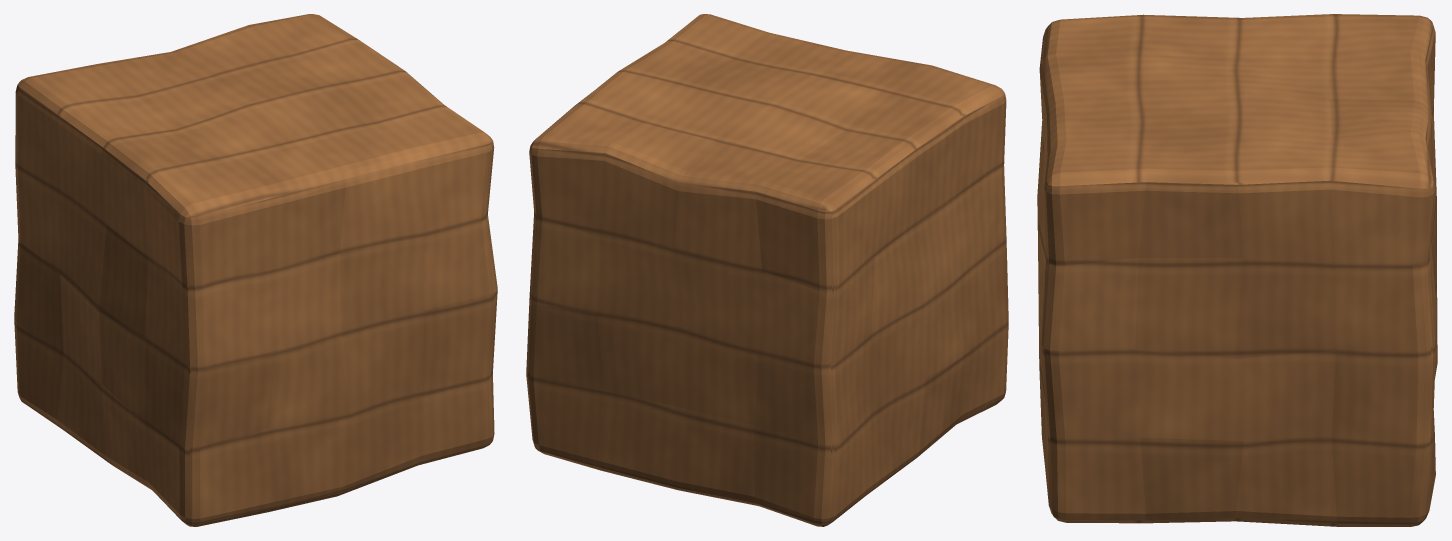
Rendered from crate2.glb.
The picture shows the model from 3 angles, left to right: view 1: azimuth 30°, elevation 25°; view 2: azimuth 150°, elevation 25°; view 3: azimuth 270°, elevation 25°; orthographic projection. The views are drawn at different scales.
Parts seen in each view (by area): view 1: crate2; view 2: crate2; view 3: crate2.
Boxes of the visible parts, left/top/right/bottom form: crate2: left=14, top=14, right=497, bottom=526; crate2: left=526, top=14, right=1008, bottom=526; crate2: left=1037, top=14, right=1437, bottom=526.
Size of the model in its own units: 0.8 by 0.8 by 0.8.
1 material, 1 textured.
